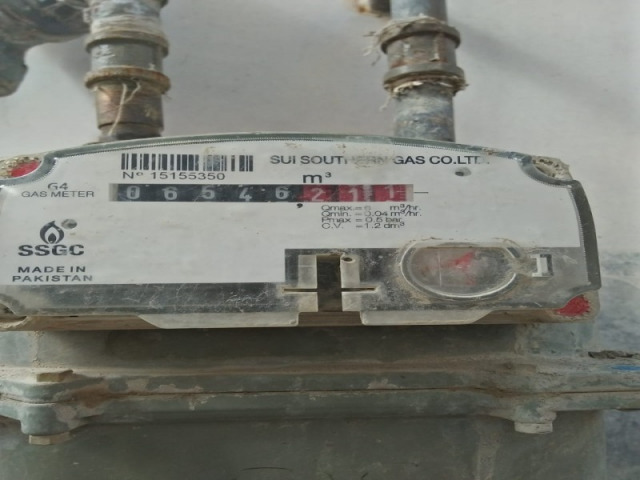ssgc: (104, 177, 415, 209)
